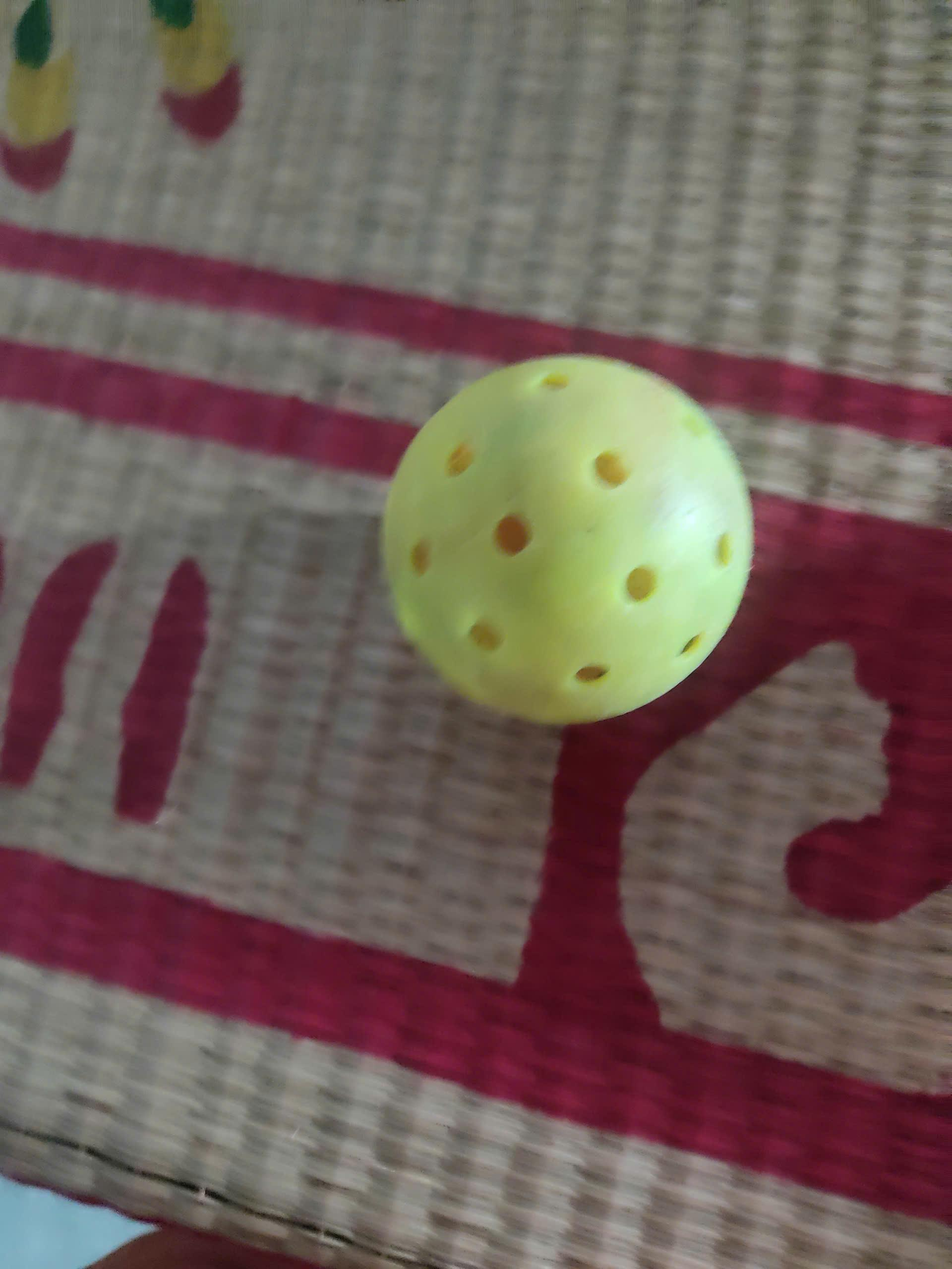ball: (355, 338, 762, 737)
